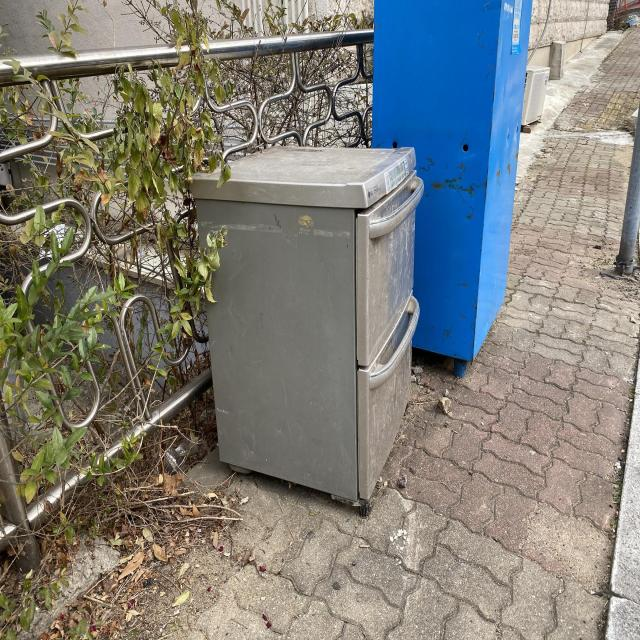refrigerator: (189, 146, 421, 518)
